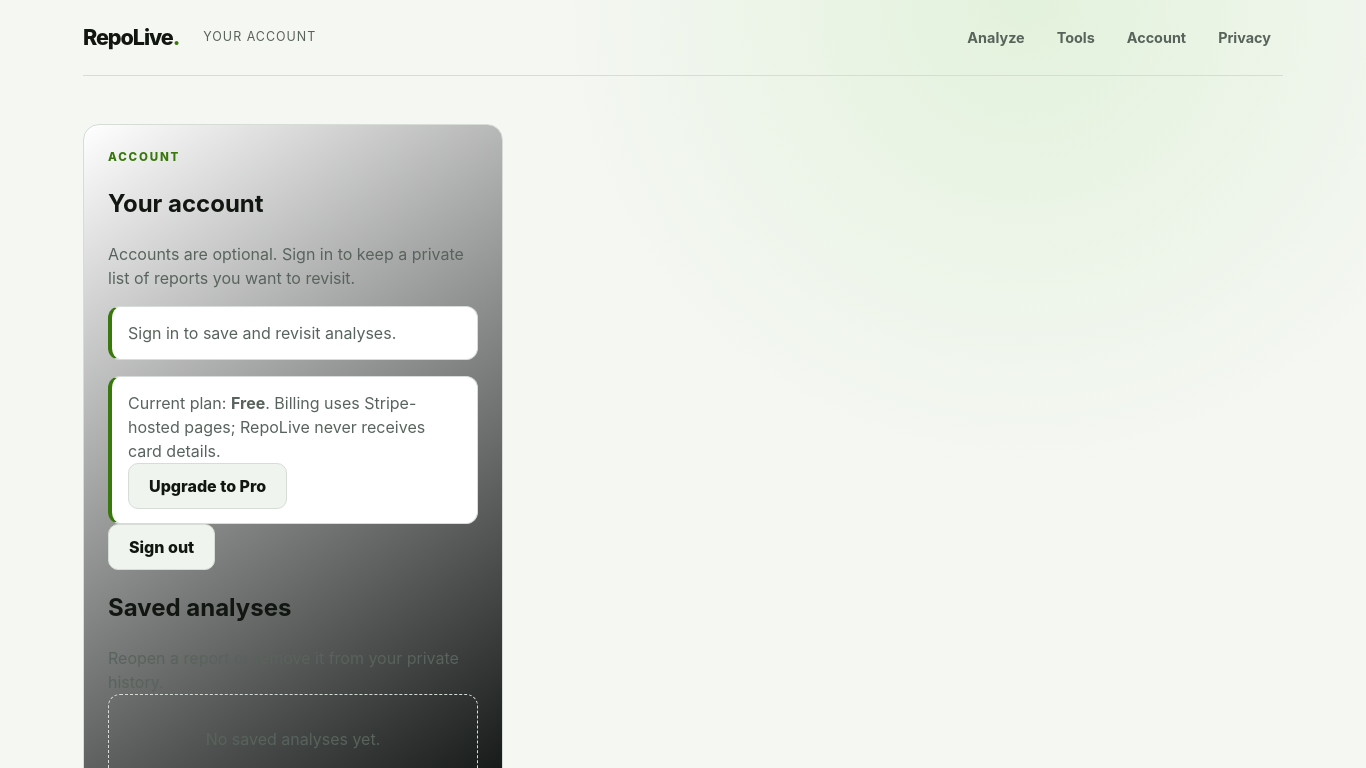
account authentication › uses an idempotent hosted-checkout request and explains unavailable billing
Click the button "Upgrade to Pro". click: (208, 486)
box: [128,463,287,509]
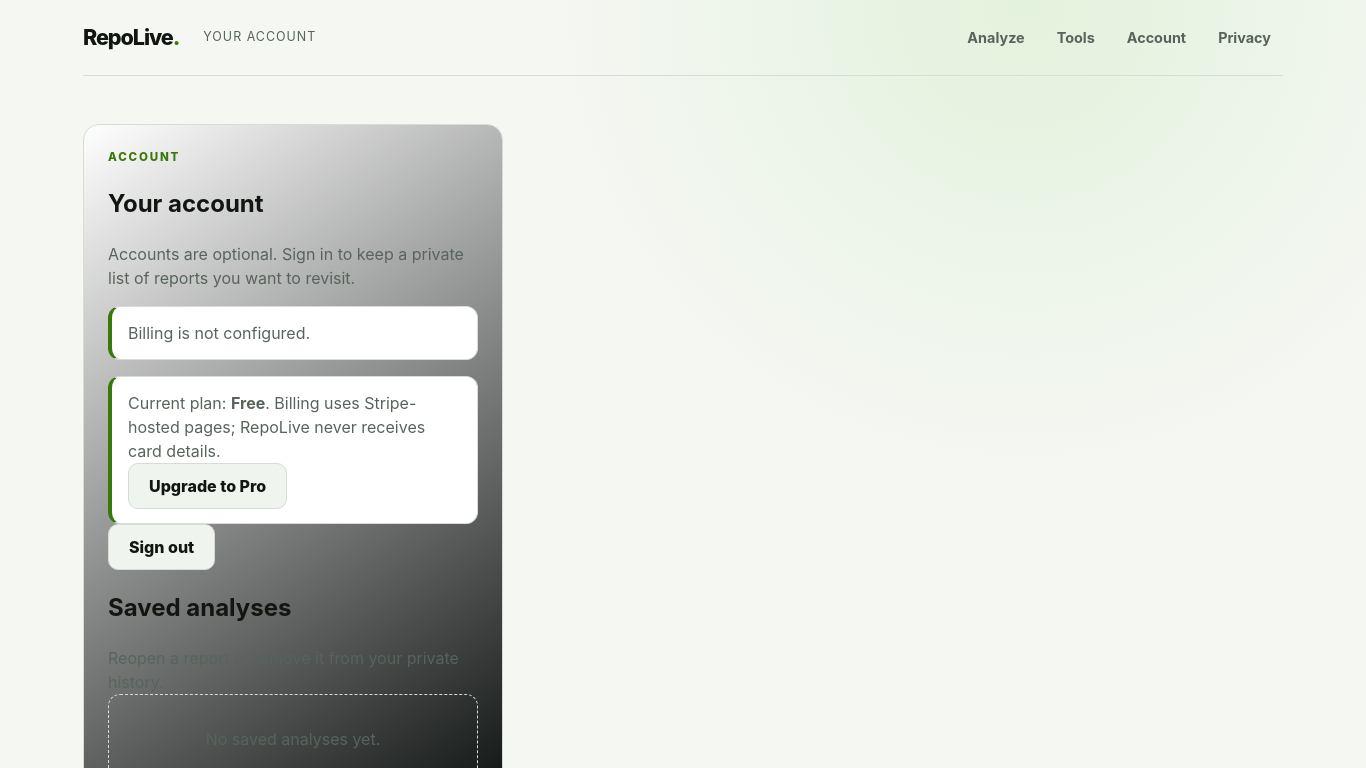
expect the text "Billing is not configured." is shown: met, box [108,306,478,360]
